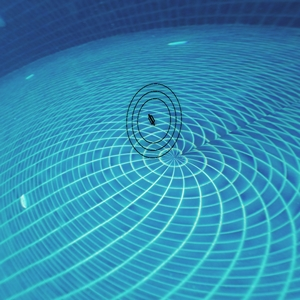circle: (112, 71, 193, 190)
submarine: (147, 114, 155, 123)
